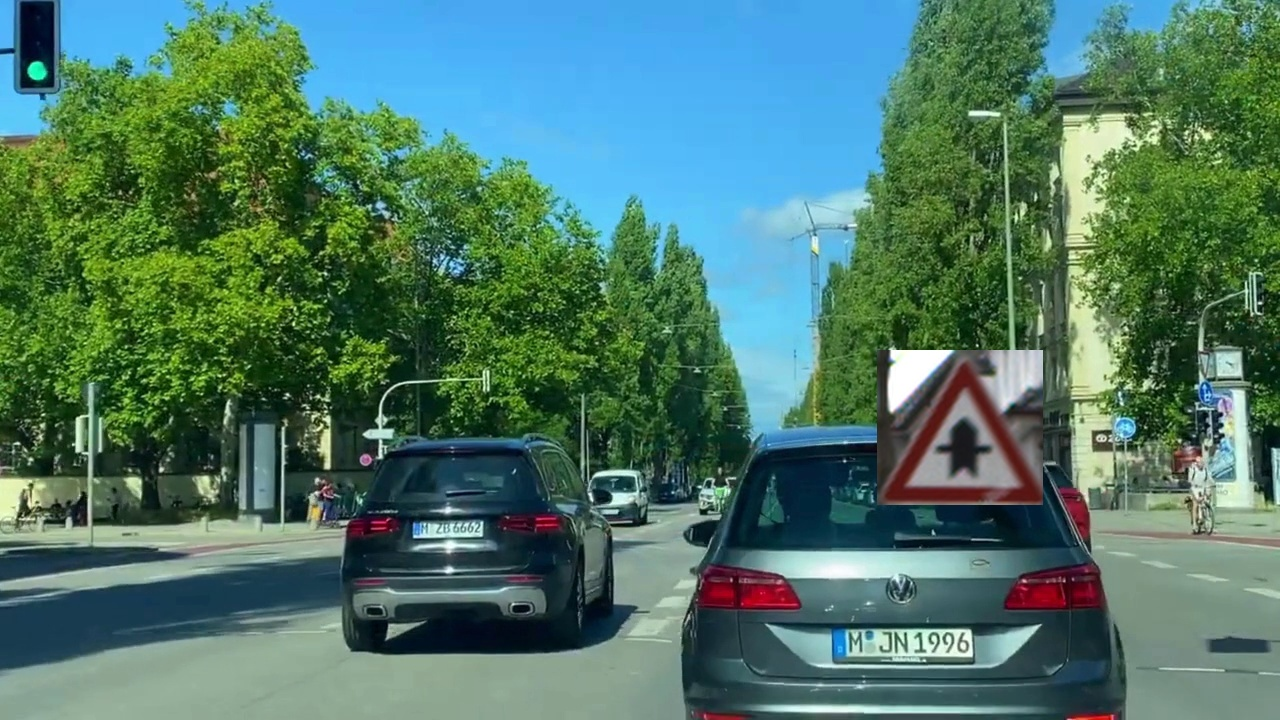Right-of-way: (877, 350, 1043, 505)
